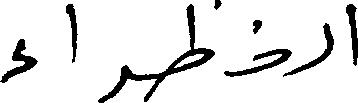X: (222, 15, 290, 81), (168, 0, 220, 79), (292, 18, 332, 79), (0, 34, 36, 87), (100, 60, 128, 102), (346, 0, 357, 70), (67, 0, 76, 67)
